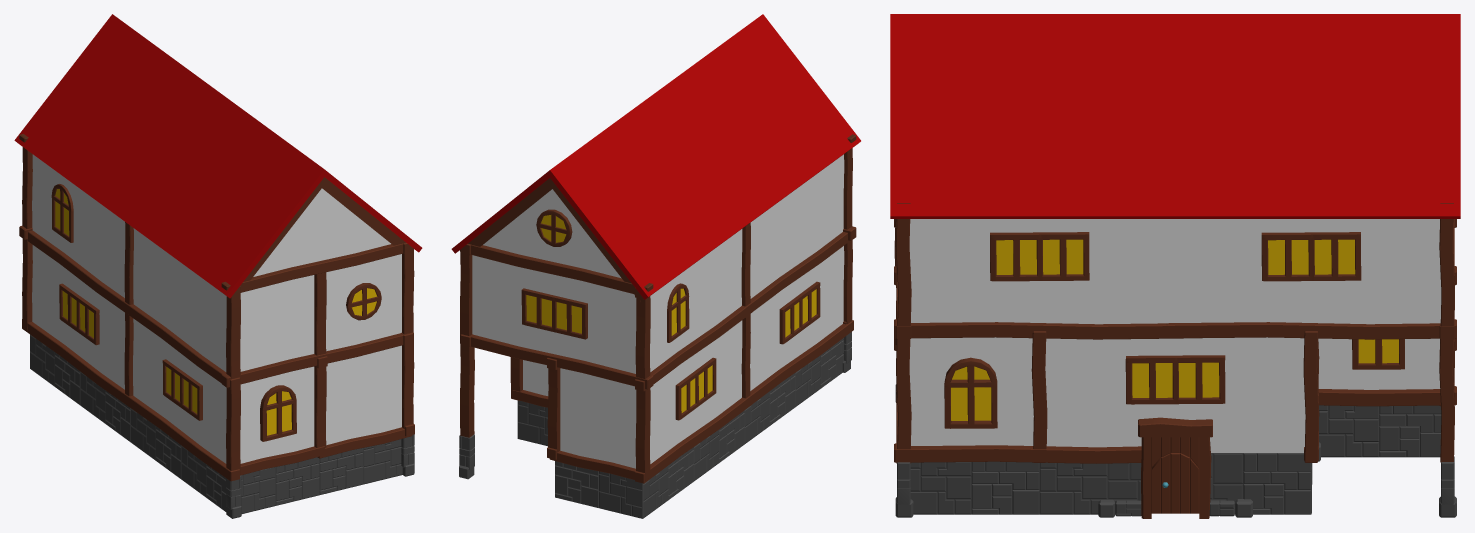
Rendered from Full_House_7.fbx.
The picture shows the model from 3 angles, left to right: view 1: azimuth 30°, elevation 25°; view 2: azimuth 150°, elevation 25°; view 3: azimuth 270°, elevation 25°; orthographic projection. The views are drawn at different scales.
Parts seen in each view (by area): view 1: Roof_Full, Wall_Large, Beams_Full1, Wall_small_origin49, Stone_Wall_LOD0, Wall_Large8, Window_Large7, Window_Large8, Beams_Full, Beams_Full2, Frame_4, Frame_2 (+2 smaller); view 2: Roof_Full, Wall_Large, Beams_Full1, Stone_Wall_LOD0, Wall_small_origin49, Wall_Large8, Window_Large1, Window_Large7, Window_Large8, Frame_2, Frame_Round5, Beams_Full2 (+2 smaller); view 3: Roof_Full, Wall_Large, Wall_small_origin49, Beams_Full1, Stone_Wall_LOD0, Window_Large, Window_Large2, Window_Large4, Doorway_Wall1, Wood_Door_LOD0, Doorway1, Frame_8 (+5 smaller).
Part boxes in pixels (x1=…): Roof_Full: x1=14, y1=14, x2=422, y2=298; Wall_Large: x1=32, y1=154, x2=401, y2=463; Beams_Full1: x1=19, y1=134, x2=414, y2=481; Wall_small_origin49: x1=240, y1=212, x2=401, y2=463; Stone_Wall_LOD0: x1=30, y1=334, x2=402, y2=513; Wall_Large8: x1=133, y1=228, x2=226, y2=371; Window_Large7: x1=59, y1=283, x2=99, y2=345; Window_Large8: x1=162, y1=359, x2=202, y2=420; Beams_Full: x1=226, y1=286, x2=240, y2=379; Beams_Full2: x1=226, y1=377, x2=240, y2=473; Frame_4: x1=260, y1=385, x2=296, y2=441; Frame_2: x1=51, y1=184, x2=73, y2=242; Roof_Full: x1=451, y1=14, x2=860, y2=301; Wall_Large: x1=472, y1=229, x2=844, y2=463; Beams_Full1: x1=460, y1=134, x2=856, y2=483; Stone_Wall_LOD0: x1=517, y1=338, x2=843, y2=518; Wall_small_origin49: x1=511, y1=213, x2=636, y2=468; Wall_Large8: x1=750, y1=154, x2=844, y2=298; Window_Large1: x1=521, y1=288, x2=587, y2=339; Window_Large7: x1=675, y1=357, x2=716, y2=420; Window_Large8: x1=779, y1=281, x2=820, y2=344; Frame_2: x1=667, y1=283, x2=689, y2=342; Frame_Round5: x1=536, y1=209, x2=572, y2=246; Beams_Full2: x1=843, y1=240, x2=852, y2=323; Roof_Full: x1=890, y1=14, x2=1460, y2=221; Wall_Large: x1=909, y1=219, x2=1441, y2=324; Wall_small_origin49: x1=909, y1=337, x2=1440, y2=452; Beams_Full1: x1=894, y1=203, x2=1456, y2=463; Stone_Wall_LOD0: x1=910, y1=405, x2=1441, y2=514; Window_Large: x1=1125, y1=355, x2=1225, y2=404; Window_Large2: x1=990, y1=232, x2=1089, y2=281; Window_Large4: x1=1261, y1=232, x2=1361, y2=281; Doorway_Wall1: x1=1107, y1=391, x2=1243, y2=452; Wood_Door_LOD0: x1=1151, y1=437, x2=1199, y2=513; Doorway1: x1=1138, y1=417, x2=1212, y2=518; Frame_8: x1=944, y1=357, x2=997, y2=428.
Size of what is drawn, in the model's own units: 0.0448 by 0.0721 by 0.084.
